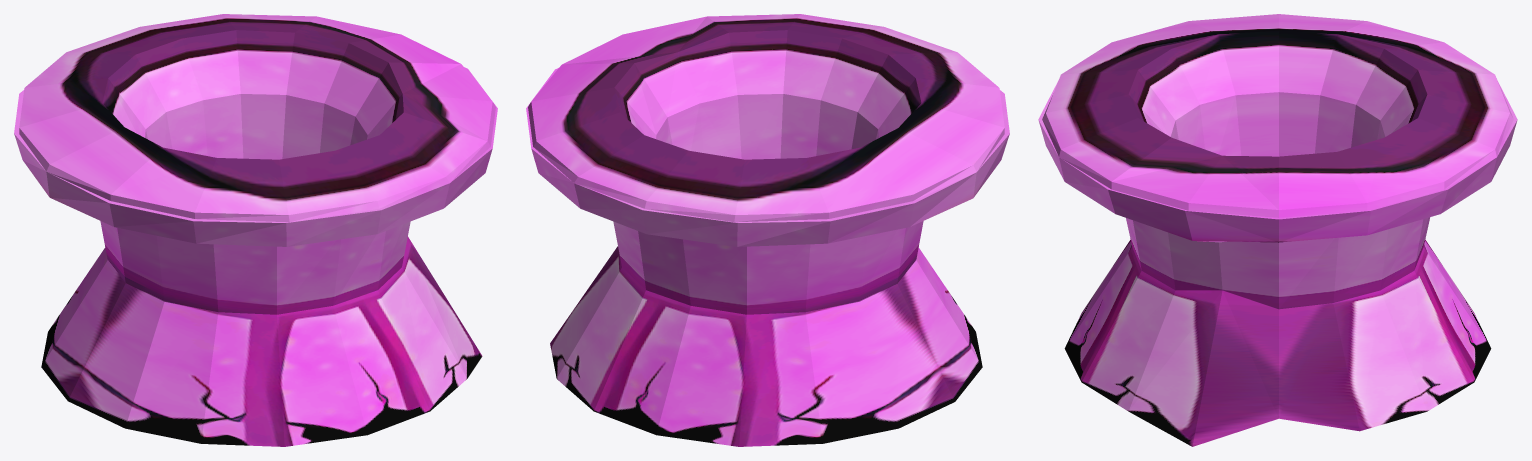
The model's file is Piece.glb.
3 renders of one model, left to right at view 1: azimuth 30°, elevation 25°; view 2: azimuth 150°, elevation 25°; view 3: azimuth 270°, elevation 25°, orthographic. The views are drawn at different scales.
Parts seen in each view (by area): view 1: Piece; view 2: Piece; view 3: Piece.
Boxes of the visible parts, <box> form: Piece: <box>14,14,497,446</box>; Piece: <box>526,14,1009,446</box>; Piece: <box>1038,14,1517,446</box>.
Bounding box in the file's own units: 38.65 × 23.95 × 38.99.
1 material, 1 textured.
